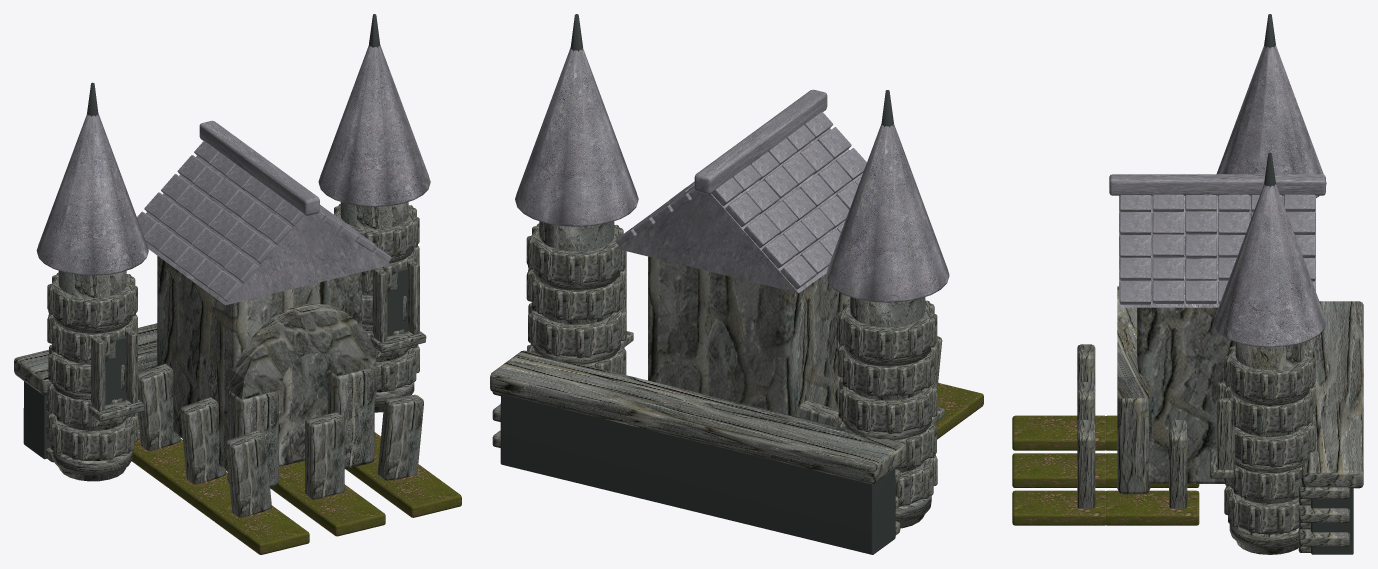
Rendered from env-site-necropolis.glb.
The picture shows the model from 3 angles, left to right: view 1: azimuth 30°, elevation 25°; view 2: azimuth 150°, elevation 25°; view 3: azimuth 270°, elevation 25°; orthographic projection. The views are drawn at different scales.
Parts seen in each view (by area): view 1: site necropolis · authored textured miniature; view 2: site necropolis · authored textured miniature; view 3: site necropolis · authored textured miniature.
Boxes of the visible parts, x1,y1,x2,y2 form: site necropolis · authored textured miniature: [14, 14, 461, 554]; site necropolis · authored textured miniature: [490, 14, 983, 554]; site necropolis · authored textured miniature: [1012, 14, 1363, 554].
Bounding box in the file's own units: 1.34 × 1.32 × 1.07.
Materials: 4 (3 with a texture image).
